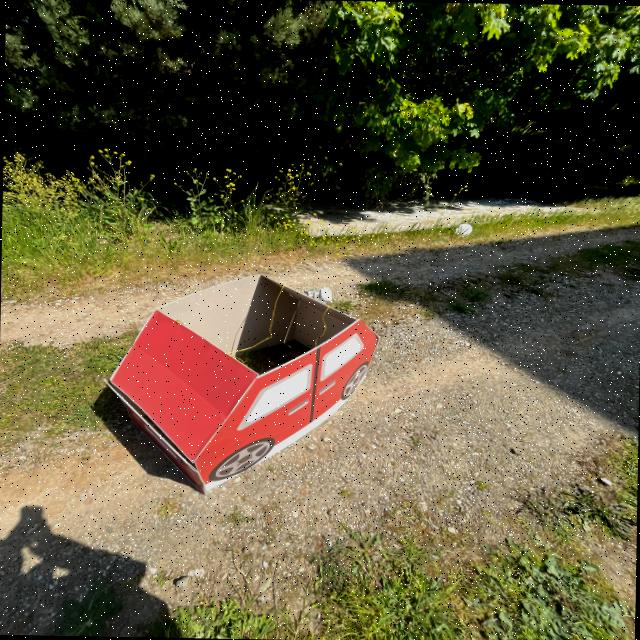red_car: (79, 268, 399, 499)
